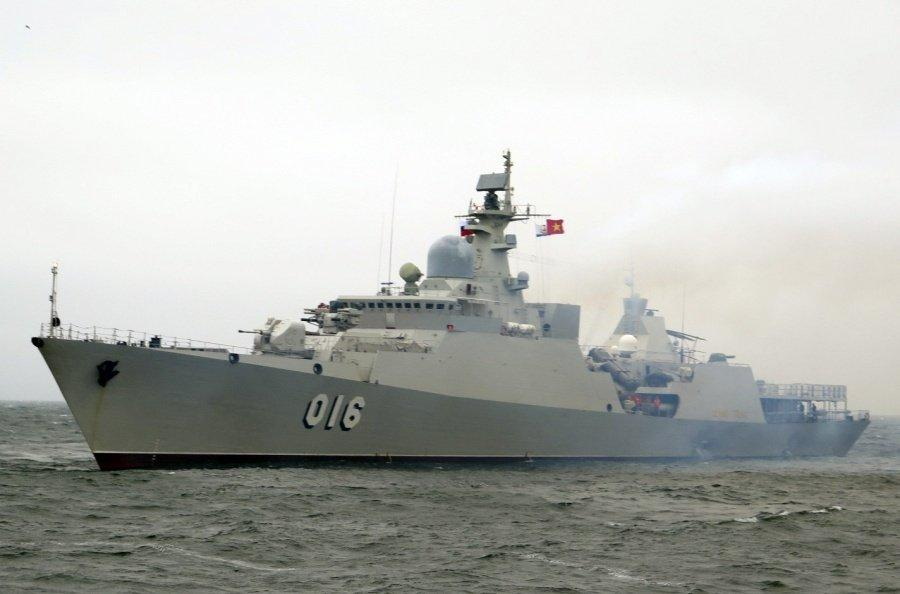MIL_Ship: (31, 144, 873, 468)
